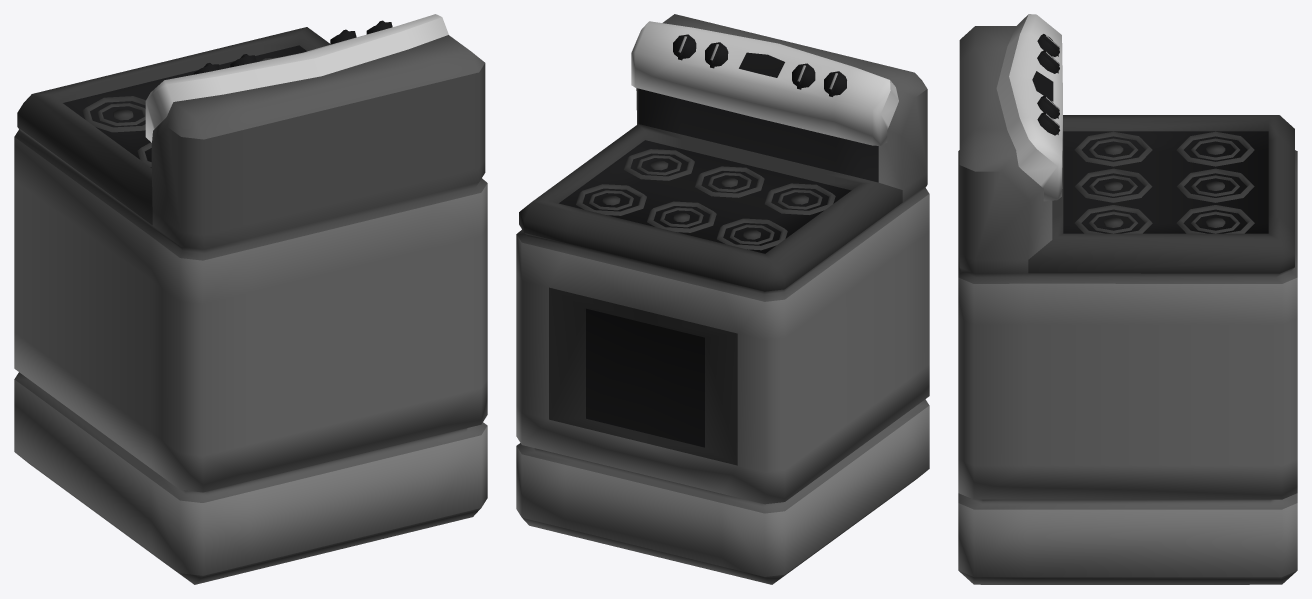
File: stove.fbx
3 renders of one model, left to right at view 1: azimuth 30°, elevation 25°; view 2: azimuth 150°, elevation 25°; view 3: azimuth 270°, elevation 25°, orthographic. The views are drawn at different scales.
Visible parts, largest first — view 1: Stove; view 2: Stove; view 3: Stove.
Part boxes in pixels (box(x1,y1,x2,y2)): Stove: box(14, 14, 487, 584); Stove: box(516, 14, 929, 584); Stove: box(958, 14, 1297, 584).
Size of the model in its own units: 0.7869 by 1.18 by 0.8087.
